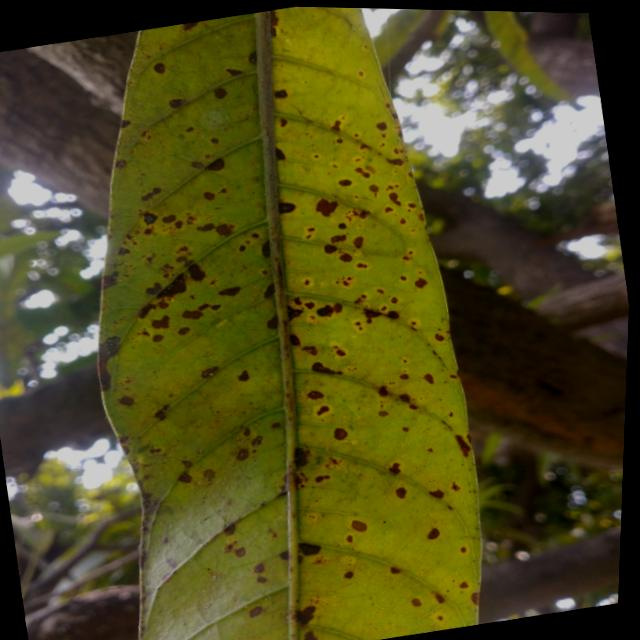Anthracnose: (156, 272, 192, 306), (98, 336, 120, 390), (292, 603, 319, 628), (312, 194, 338, 219), (184, 262, 208, 285), (452, 432, 473, 458), (148, 314, 172, 334), (311, 361, 341, 376), (139, 185, 162, 204), (204, 156, 226, 175), (217, 284, 242, 300), (153, 402, 172, 422), (198, 364, 220, 381), (144, 280, 163, 299), (264, 314, 282, 333), (314, 303, 334, 320), (349, 518, 368, 535), (293, 447, 308, 468), (211, 84, 228, 102), (176, 470, 193, 488), (214, 222, 234, 237), (100, 273, 118, 289), (298, 542, 319, 555), (424, 526, 441, 542), (387, 461, 403, 477), (249, 434, 265, 449), (141, 211, 158, 225), (251, 561, 266, 576), (261, 282, 276, 297), (393, 485, 408, 500), (201, 468, 216, 483), (286, 333, 301, 348), (236, 369, 251, 384), (117, 394, 134, 407), (195, 223, 215, 233), (222, 522, 236, 536), (338, 251, 353, 264), (429, 488, 444, 501), (272, 88, 288, 100), (278, 202, 294, 214), (181, 310, 202, 319), (272, 147, 285, 161), (181, 21, 198, 31), (376, 385, 389, 398), (176, 324, 190, 336), (315, 404, 329, 416), (234, 546, 247, 558), (235, 449, 248, 461), (410, 596, 422, 609), (306, 390, 323, 399), (168, 99, 185, 108), (385, 310, 400, 320), (386, 158, 402, 167), (119, 117, 131, 129), (249, 606, 262, 617), (202, 191, 215, 202), (160, 215, 175, 224), (342, 569, 355, 579), (387, 566, 400, 576), (261, 241, 269, 257), (226, 68, 242, 76), (433, 332, 444, 343), (470, 592, 479, 605), (303, 631, 317, 639), (458, 580, 468, 591), (153, 63, 164, 73), (414, 279, 426, 288), (248, 52, 256, 65), (353, 237, 362, 248), (331, 120, 340, 131), (114, 160, 126, 168), (338, 179, 351, 186), (261, 639, 284, 640)
